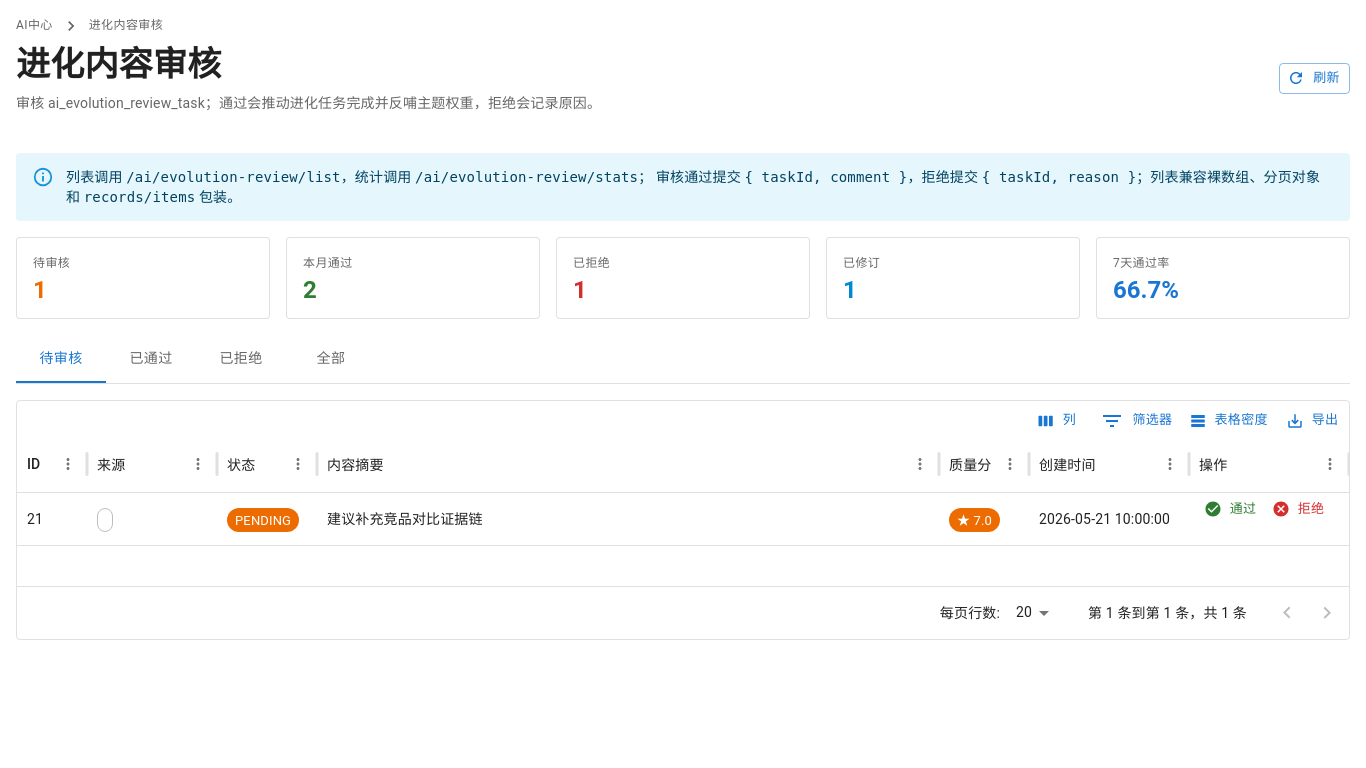
it: Evolution ops pages › EvolutionReviewPage keeps reject dialog and reason when reject endpoint fails
Expected: the text "建议补充竞品对比证据链" is shown, [327, 511, 483, 527]
Click the button "拒绝" at [1299, 509], box [1267, 494, 1331, 525]
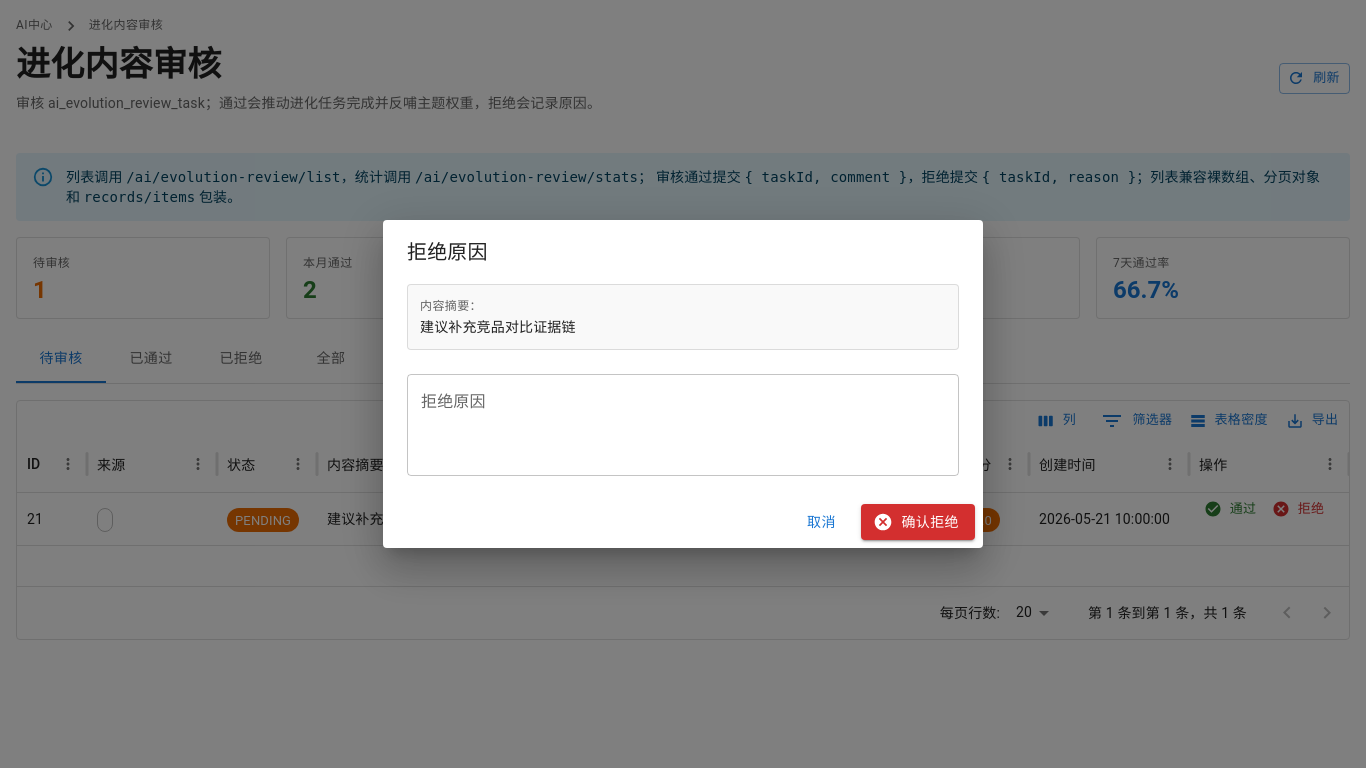
Type "缺少引用证据" into the text box labelled "拒绝原因" at [683, 425], box [421, 390, 945, 459]
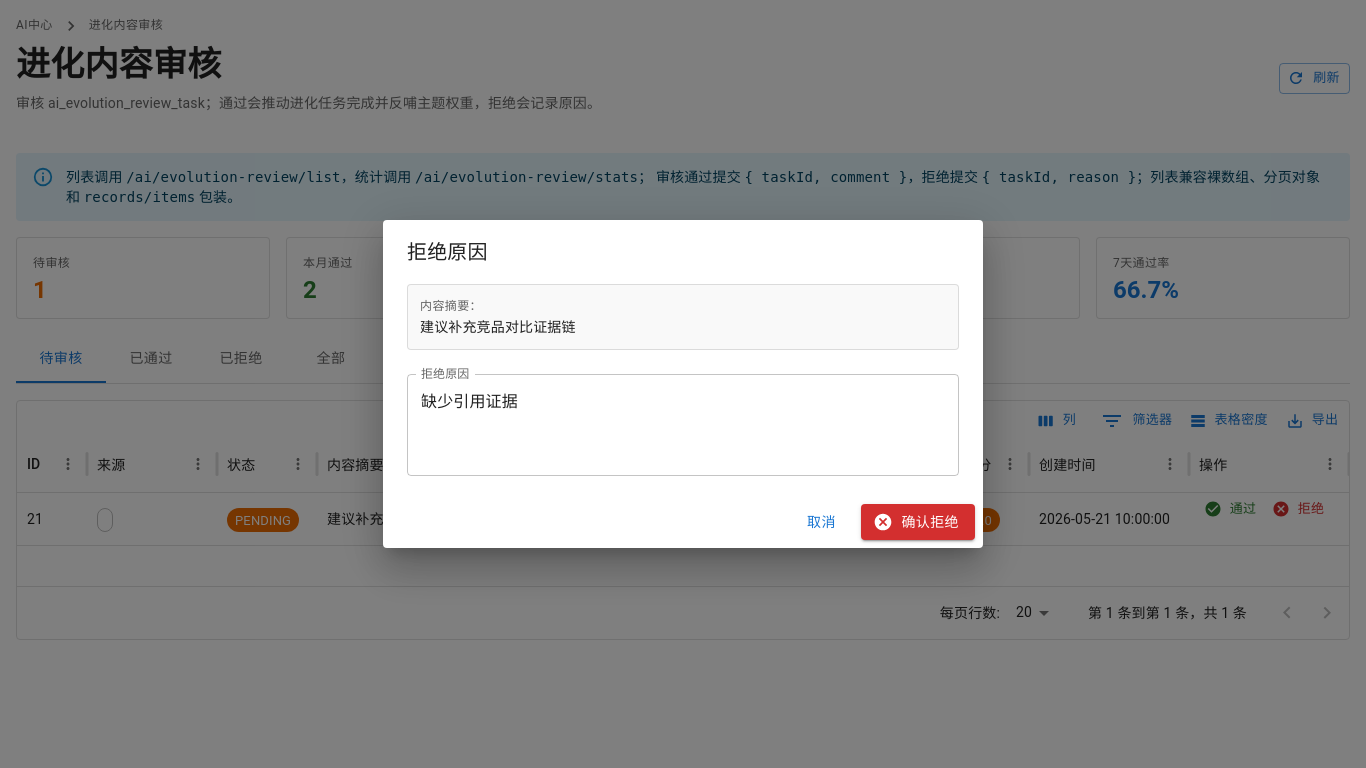
Click the button "确认拒绝" at [918, 522], box [861, 504, 975, 540]
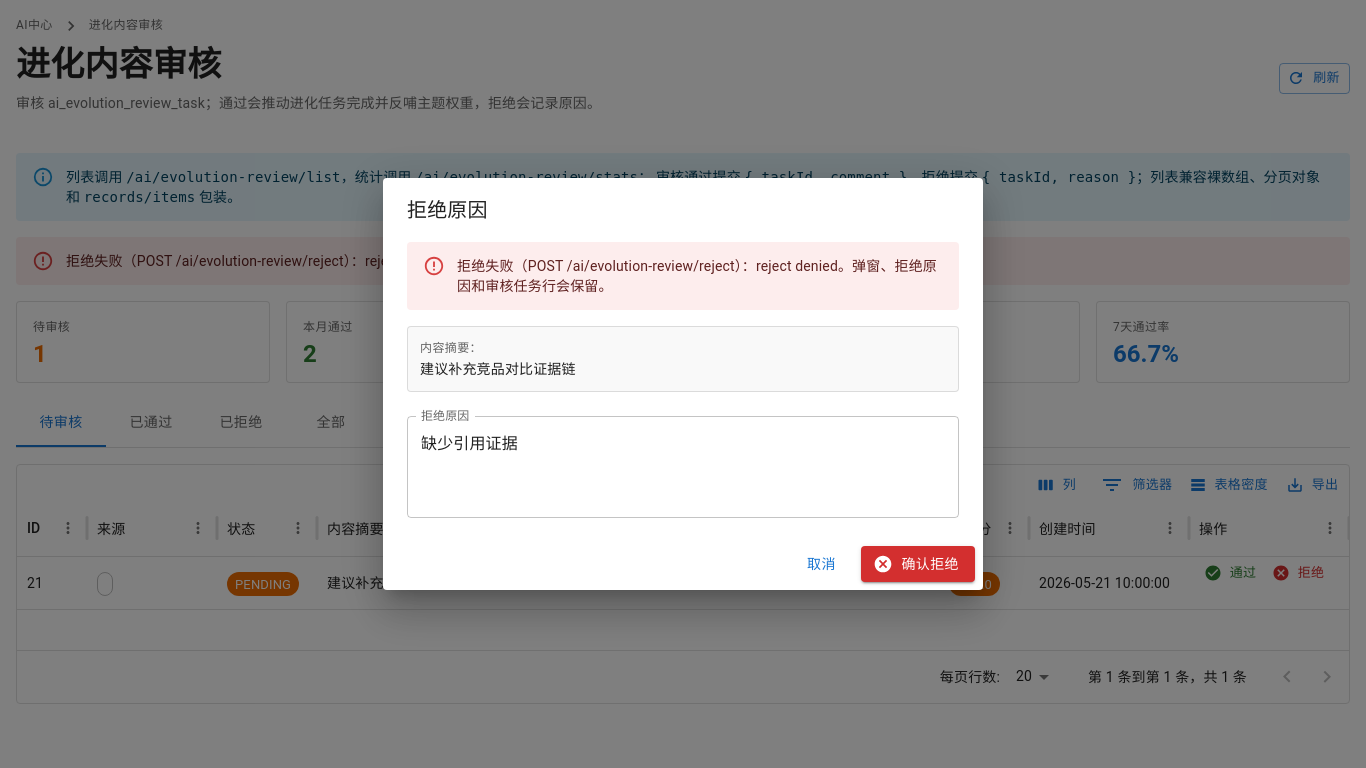
Result: the dialog "拒绝原因" is shown at [383, 178, 983, 590]
Result: the text "拒绝失败（POST /ai/evolution-review/reject）：reject denied" below "records/items" is shown at [66, 253, 702, 269]
